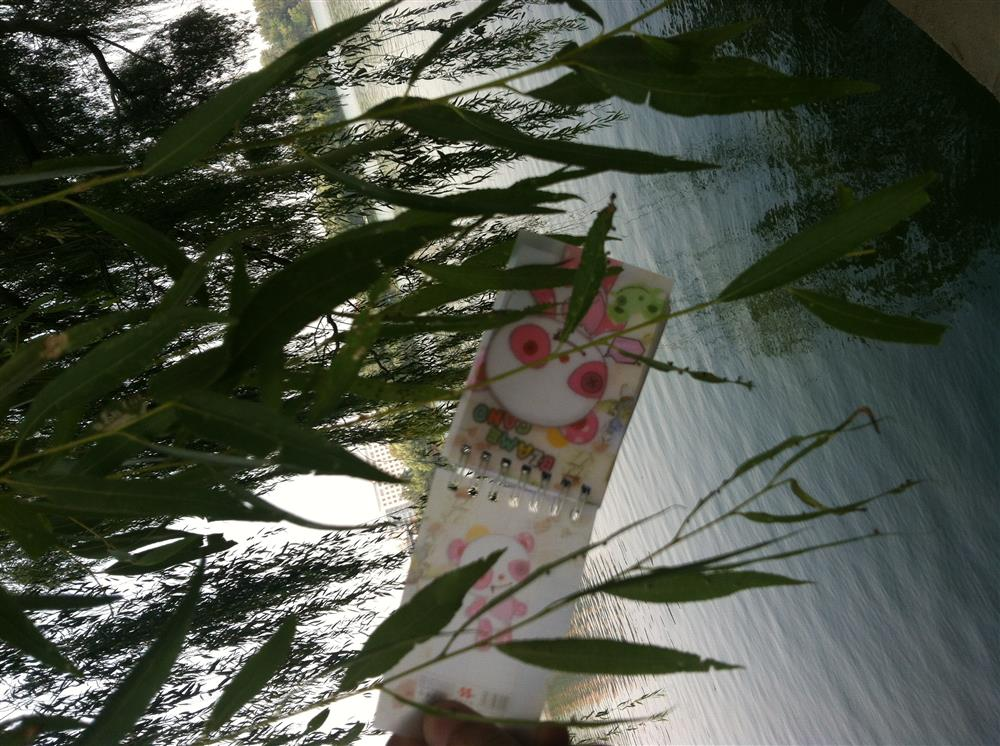pear_book: (370, 227, 675, 743)
